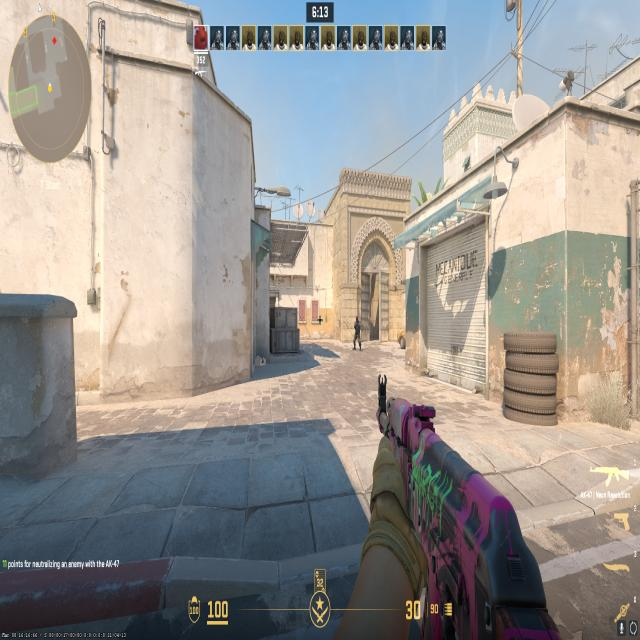ct: (350, 312, 363, 352)
